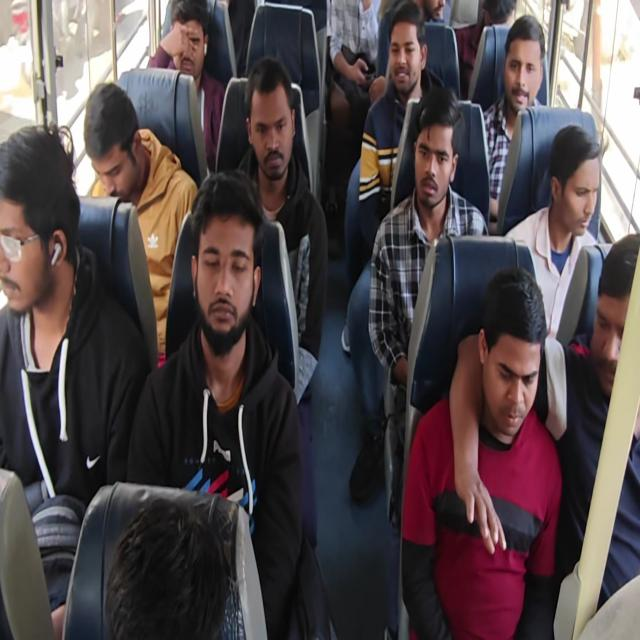person: (0, 1, 639, 638), (125, 168, 337, 638), (0, 122, 150, 637), (450, 232, 640, 624), (400, 266, 562, 638), (368, 85, 490, 387), (83, 81, 199, 365), (235, 56, 329, 403), (504, 124, 603, 346), (357, 1, 445, 247), (103, 493, 230, 639), (481, 14, 546, 225), (147, 0, 225, 174), (325, 0, 380, 214), (455, 0, 517, 98)
